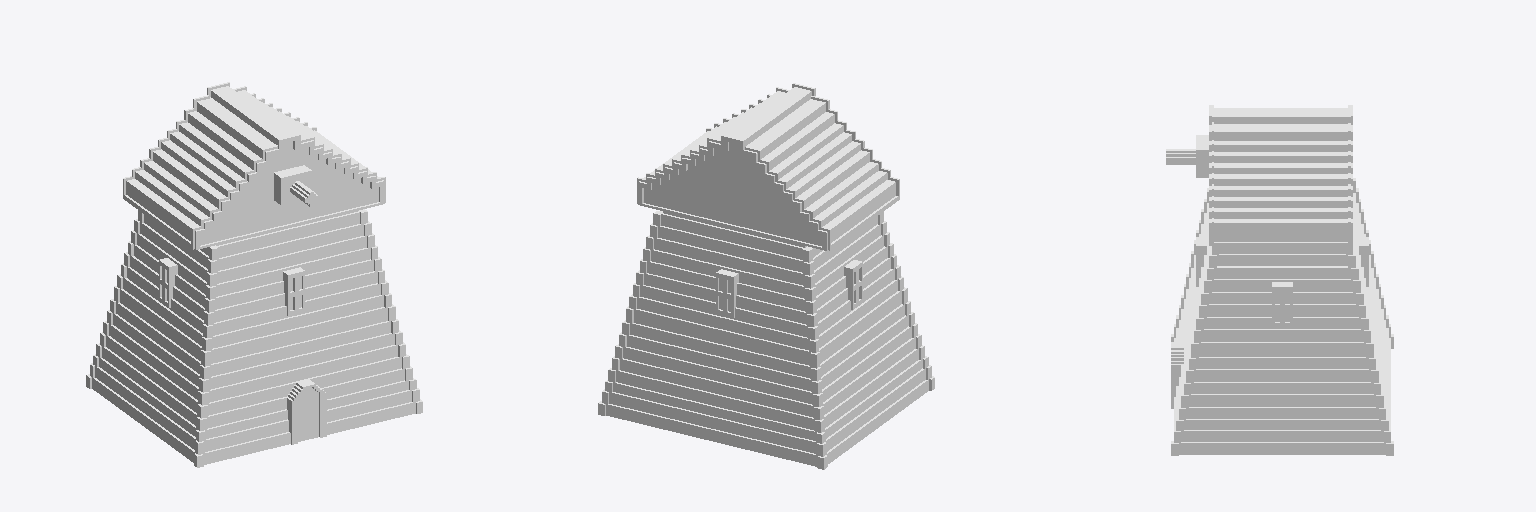
The model's file is mill3-1.obj.
3 renders of one model, left to right at view 1: azimuth 30°, elevation 25°; view 2: azimuth 150°, elevation 25°; view 3: azimuth 270°, elevation 25°, orthographic.
Visible parts, largest first — view 1: object 1; view 2: object 1; view 3: object 1.
Boxes of the visible parts, <box> form: object 1: <box>86,82,422,467</box>; object 1: <box>598,83,934,469</box>; object 1: <box>1166,105,1393,455</box>.
Bounding box in the file's own units: 10.3 × 12.6 × 9.